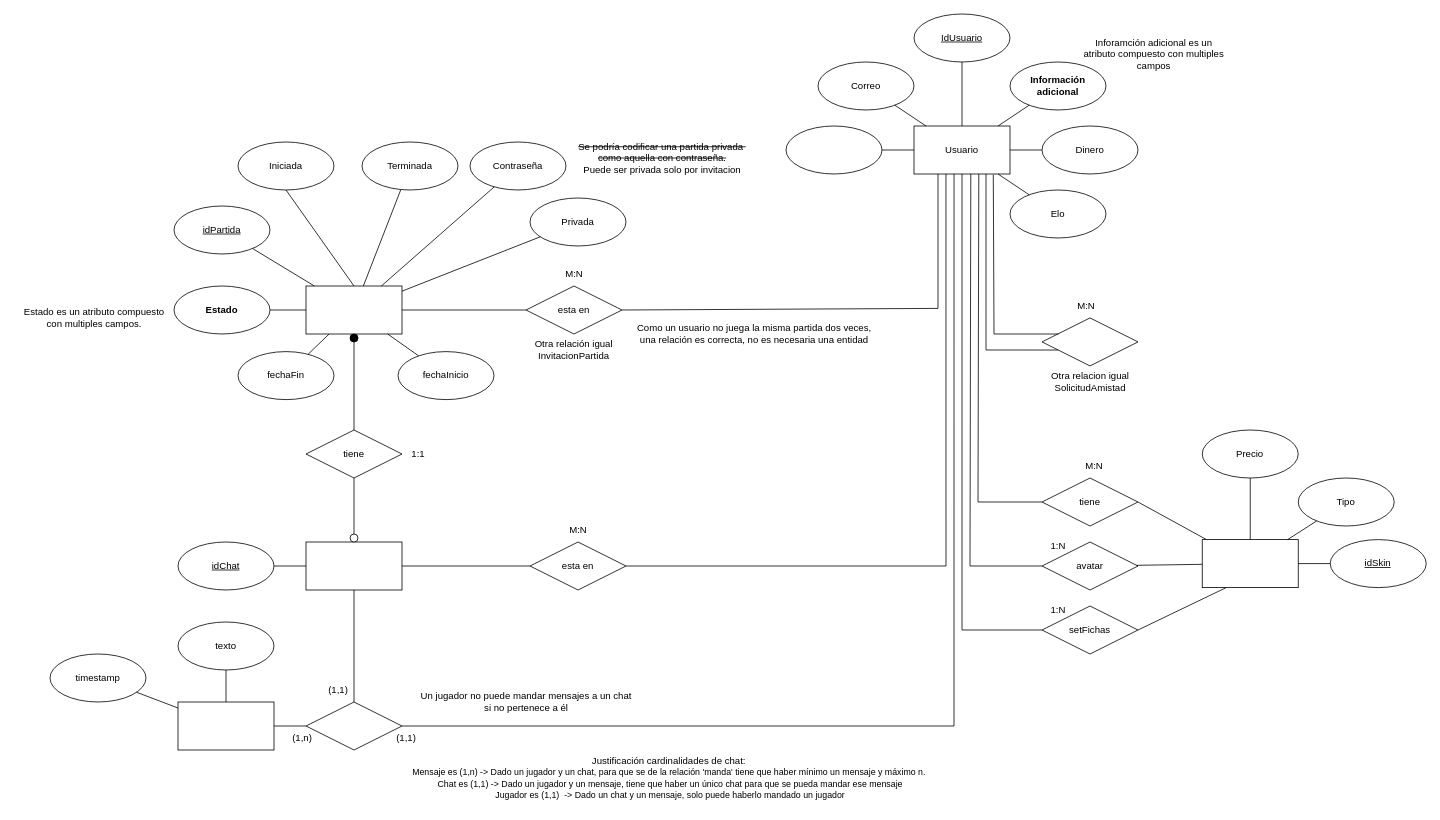
Image size: 1440x820. Some labels were removed from this diagram. Here are the shapes that lost their labels. From the top down, the centre of each, then its label:
At (833,149): "Contraseña (hash)".
At (353,309): "Partida".
At (1089,341): "Amigos".
At (353,565): "Chat".
At (1249,563): "Skin".
At (225,725): "Mensaje".
At (353,725): "Manda".
